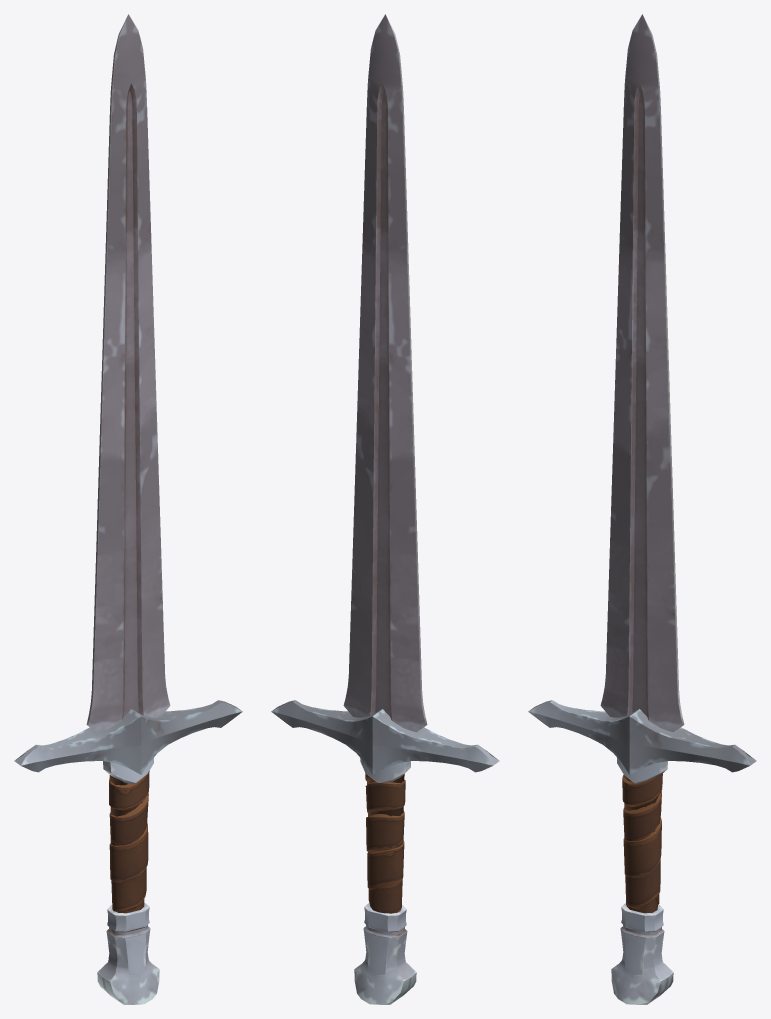
The model's file is Sword_Bronze.gltf.
The picture shows the model from 3 angles, left to right: view 1: azimuth 30°, elevation 25°; view 2: azimuth 150°, elevation 25°; view 3: azimuth 330°, elevation 25°; orthographic projection.
Parts seen in each view (by area): view 1: Sword_Bronze; view 2: Sword_Bronze; view 3: Sword_Bronze.
Part boxes in pixels (box(x1,y1,x2,y2)): Sword_Bronze: box(14, 14, 242, 1004); Sword_Bronze: box(271, 14, 499, 1004); Sword_Bronze: box(528, 14, 756, 1004).
Bounding box in the file's own units: 0.2666 × 1.13 × 0.0654.
Materials: 1 (1 with a texture image).
